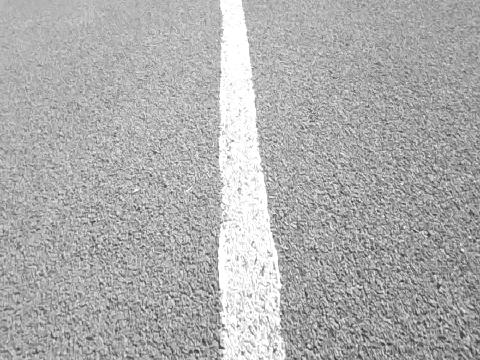Lines: (219, 0, 288, 360)
